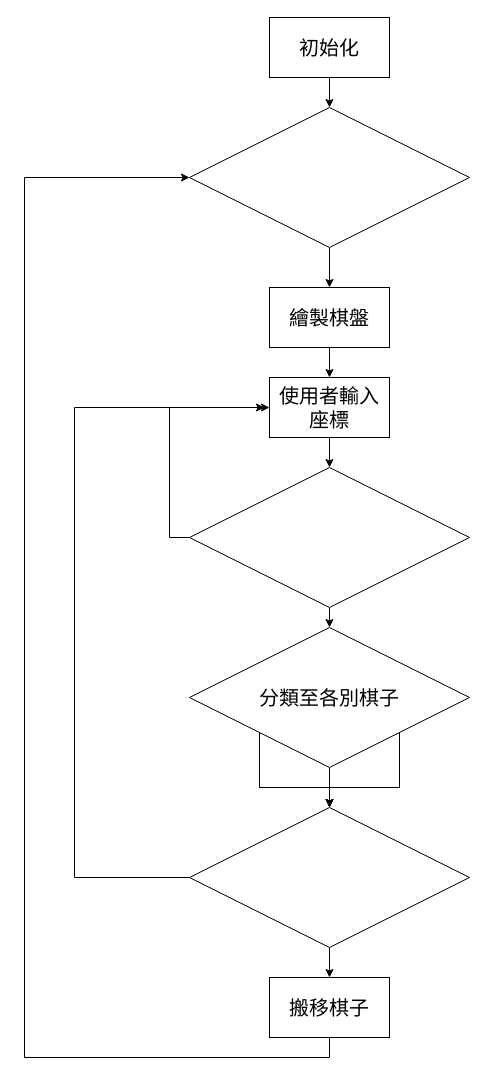
Image size: 487x1083. Some labels were removed from this diagram. Here are the shapes that lost their labels. From the top down, the centre of each, then its label:
At (329,177): "檢查是否勝利".
At (329,537): "檢查輸入合理性".
At (329,877): "檢查是否符合象棋規則".
